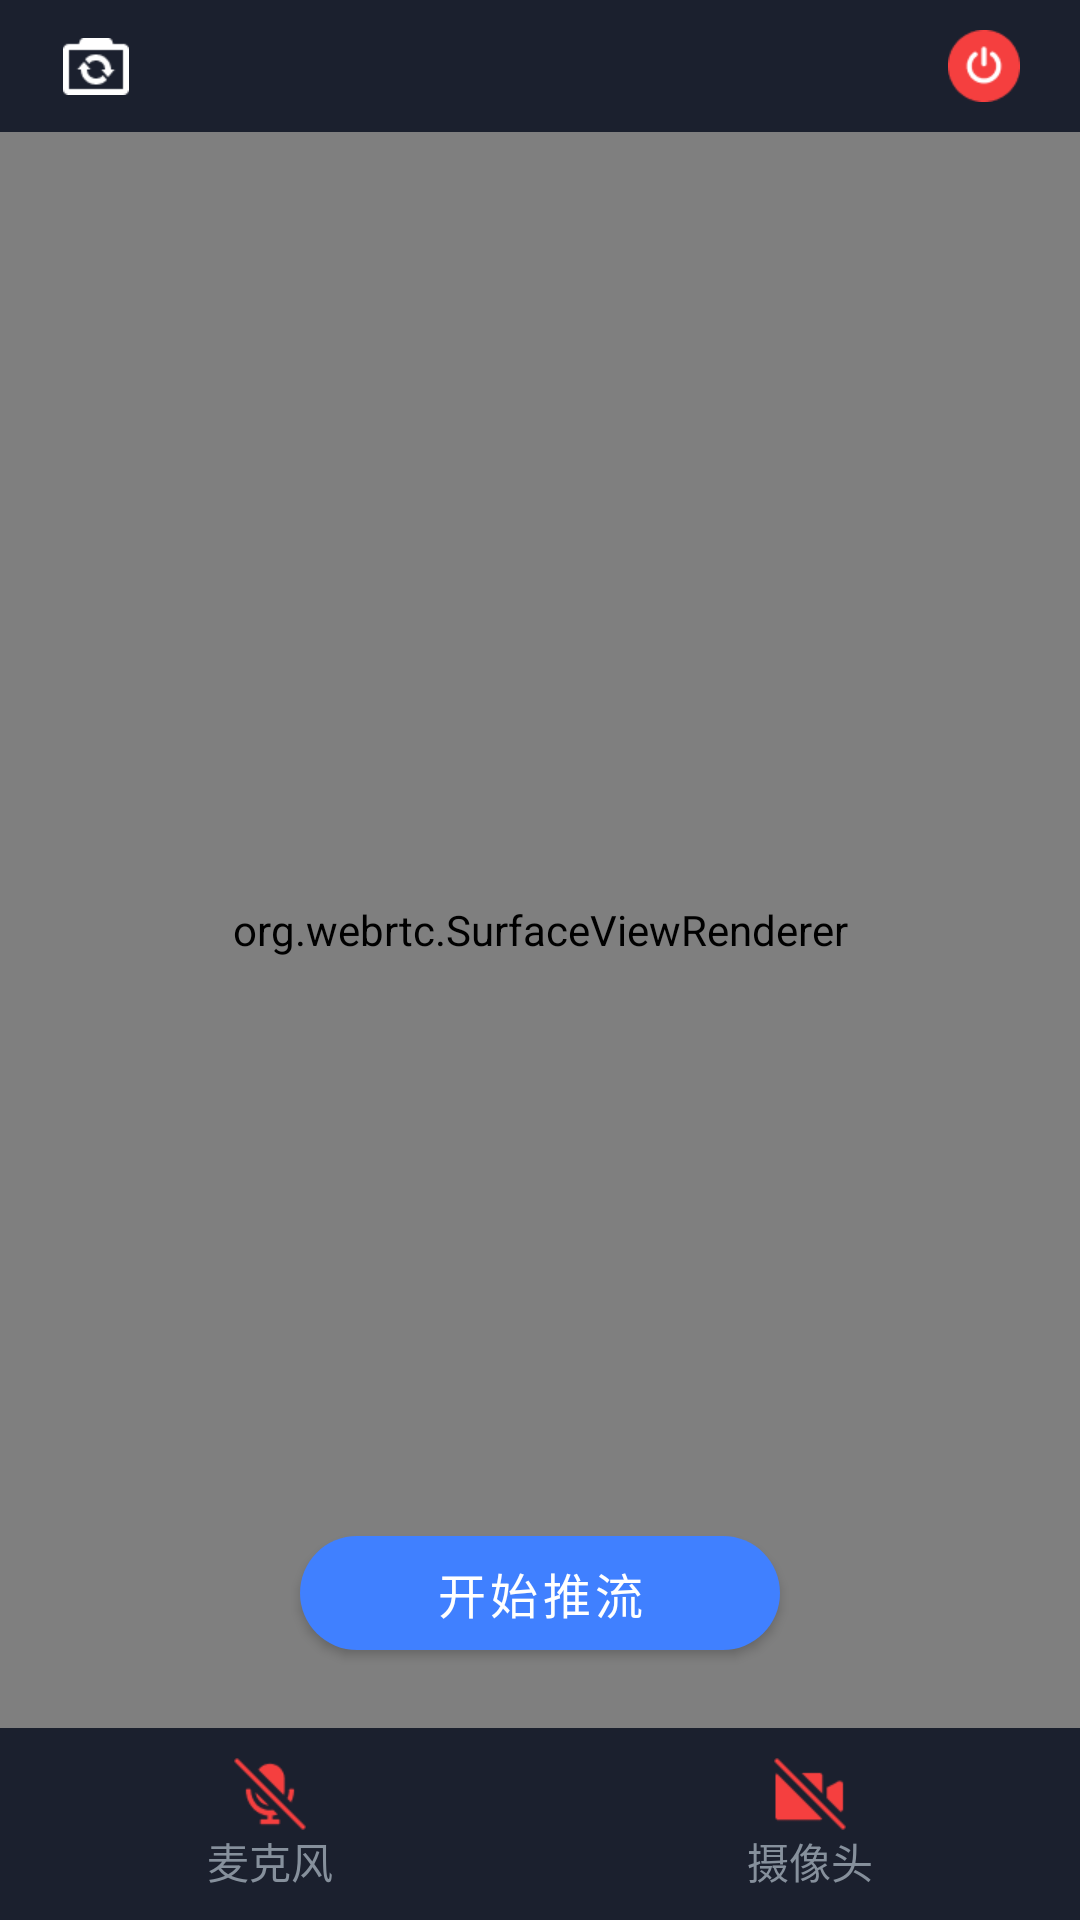

Screen size 1080*1920. Icon name, then its center in pixels as (x=x, y=y):
exit: (x=984, y=66)
switch camera: (x=96, y=66)
